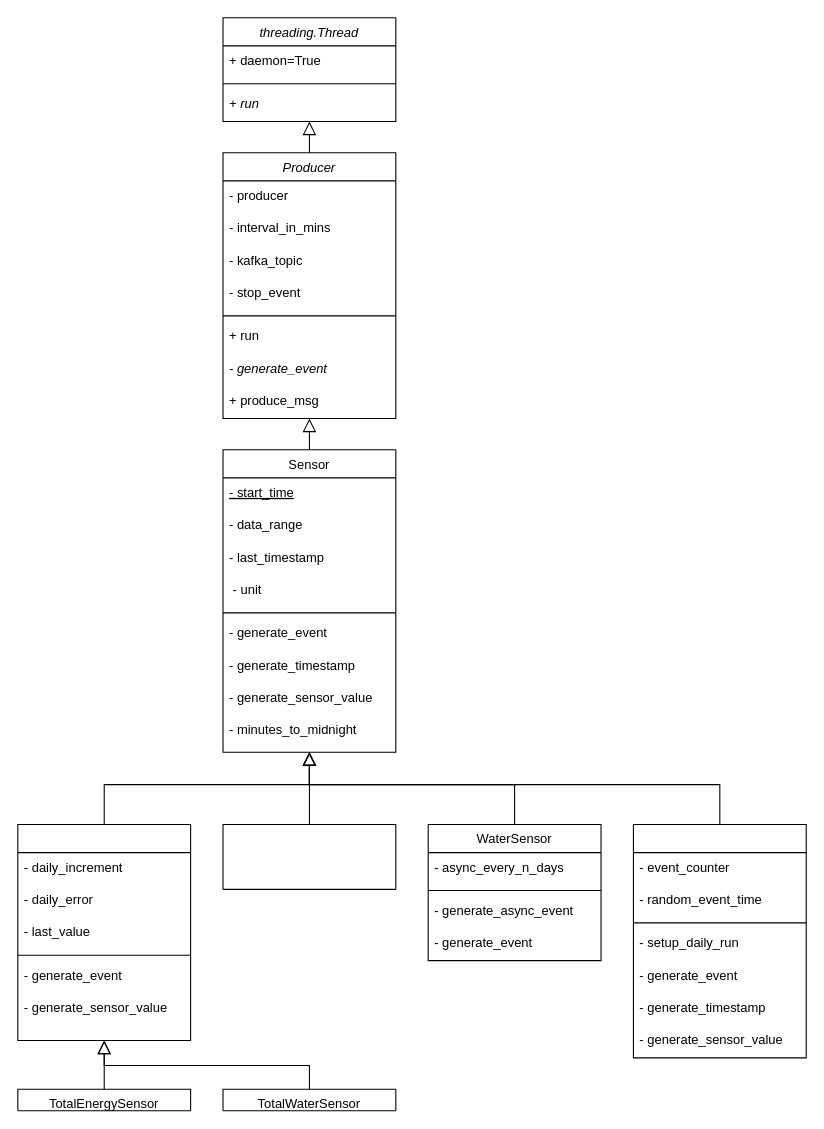
The diagram is 824 pixels wide and 1129 high, and some of its shapes have lost their labels. Here are the shapes that lost their labels. From the top down, the box of each, then its label:
(222, 824, 396, 889): Thermo/HVAC/Electrical Sensor
(17, 824, 191, 1041): TotalSensor
(632, 824, 806, 1058): MotionSensor
